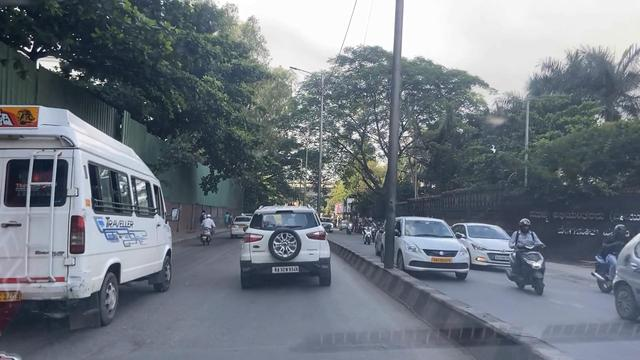HMV: (0, 109, 174, 316)
LMV: (244, 200, 335, 290)
